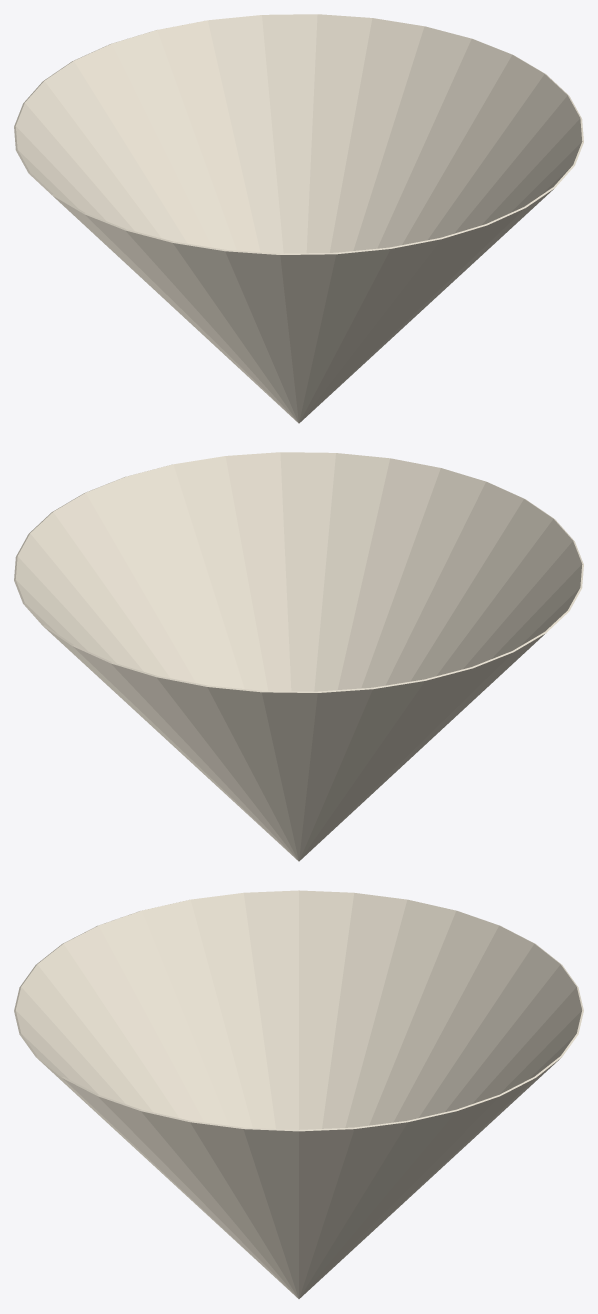
File: Filtro di carta v1.fbx
The picture shows the model from 3 angles, top to bottom: view 1: azimuth 30°, elevation 25°; view 2: azimuth 150°, elevation 25°; view 3: azimuth 270°, elevation 25°; orthographic projection.
Parts seen in each view (by area): view 1: Cone; view 2: Cone; view 3: Cone.
Part boxes in pixels (x1,y1,x2,y2): Cone: (14, 14, 583, 423); Cone: (14, 452, 583, 861); Cone: (14, 890, 583, 1298).
Bounding box in the file's own units: 16.33 × 9.15 × 16.33.
